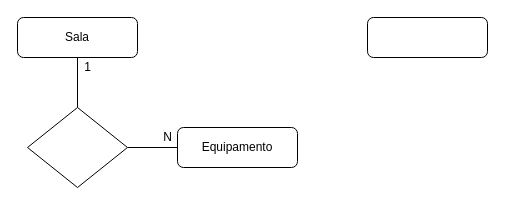
The diagram is 505 pixels wide and 205 high, and some of its shapes have lost their labels. The centre of each missing label's shape, as x and y in pixels:
possui: [77,147]
Usuario: [427,37]
